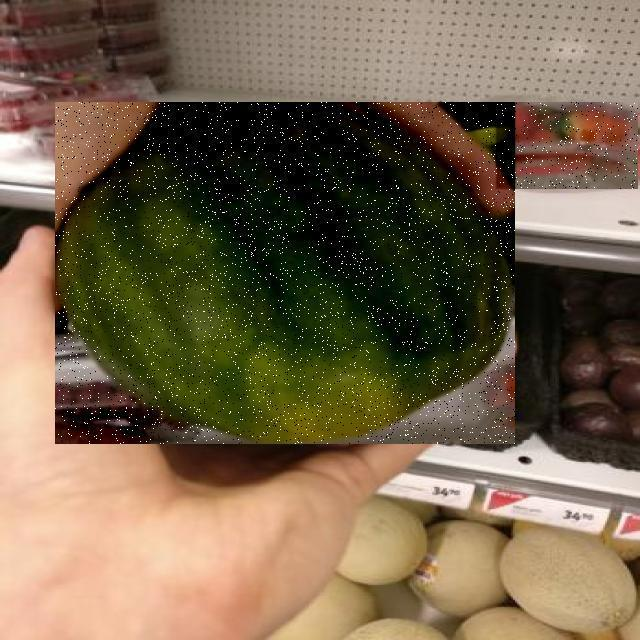Straw Berry: (497, 102, 639, 189)
Watermelon: (55, 102, 515, 444)
